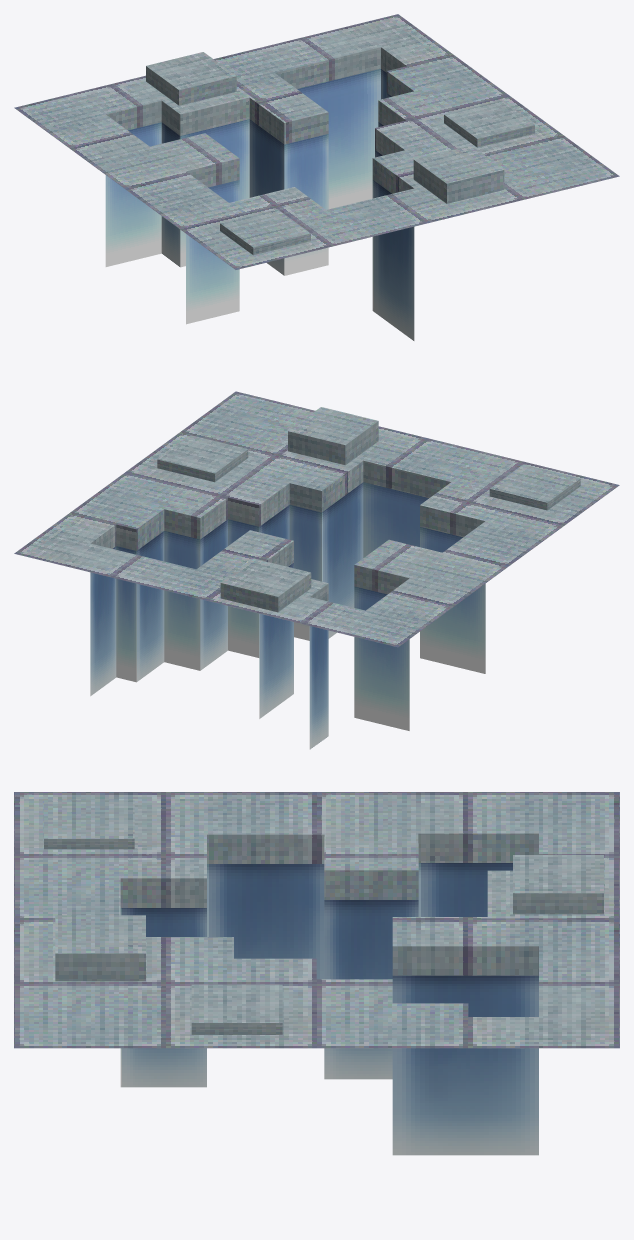
File: a_ESDwall01f.glb
The picture shows the model from 3 angles, top to bottom: view 1: azimuth 30°, elevation 25°; view 2: azimuth 150°, elevation 25°; view 3: azimuth 270°, elevation 25°; orthographic projection. The views are drawn at different scales.
Parts seen in each view (by area): view 1: a_ESDwall01f; view 2: a_ESDwall01f; view 3: a_ESDwall01f.
Part boxes in pixels (x1=…): a_ESDwall01f: x1=14, y1=14, x2=619, y2=340; a_ESDwall01f: x1=14, y1=391, x2=619, y2=749; a_ESDwall01f: x1=14, y1=792, x2=619, y2=1155.
Bounding box in the file's own units: 2 × 0.8609 × 2.
Materials: 2 (2 with a texture image).
